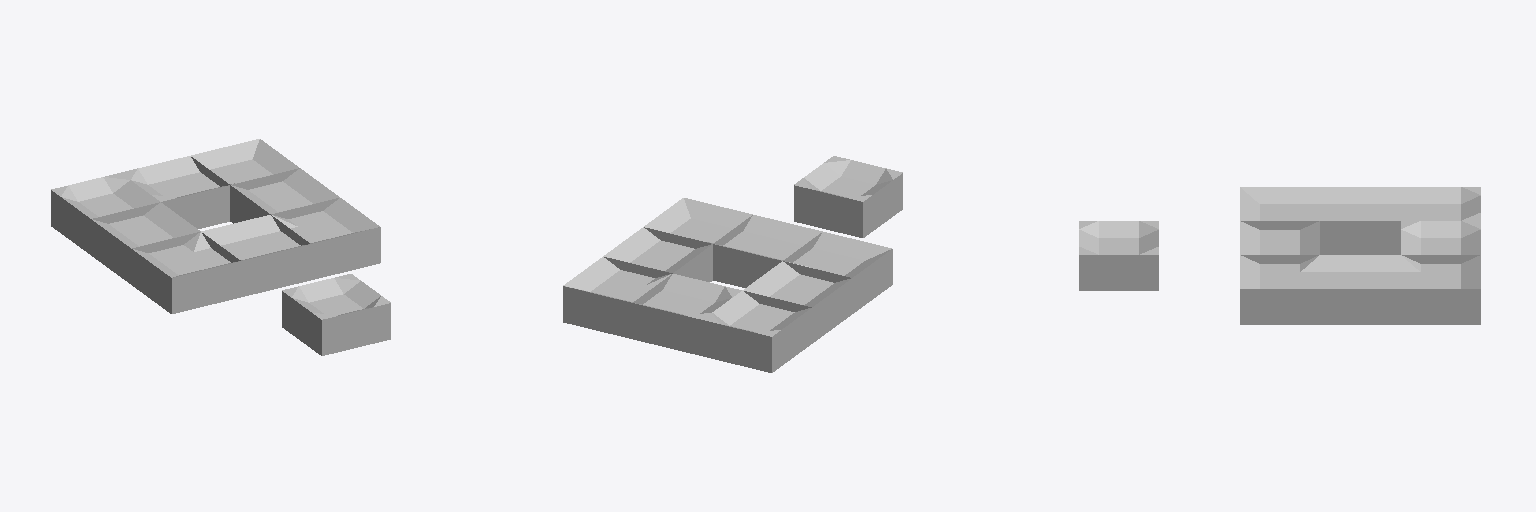
File: 8f_path.obj
The picture shows the model from 3 angles: view 1: azimuth 30°, elevation 25°; view 2: azimuth 150°, elevation 25°; view 3: azimuth 270°, elevation 25°; orthographic projection.
Parts seen in each view (by area): view 1: foil.hole.1.0_Cube.167, foil.corner.0.2_corner.832, foil.through.1.2_through.161, foil.corner.2.2_corner.833, foil.through.0.3_through.160, foil.ending.1.4_ending.332, foil.ending.0.4_ending.331, foil.through.2.3_through.162, foil.corner.2.4_corner.834; view 2: foil.hole.1.0_Cube.167, foil.ending.0.4_ending.331, foil.corner.2.4_corner.834, foil.ending.1.4_ending.332, foil.through.1.2_through.161, foil.through.0.3_through.160, foil.corner.0.2_corner.832, foil.through.2.3_through.162, foil.corner.2.2_corner.833; view 3: foil.through.2.3_through.162, foil.hole.1.0_Cube.167, foil.corner.2.4_corner.834, foil.through.0.3_through.160, foil.corner.2.2_corner.833, foil.through.1.2_through.161, foil.corner.0.2_corner.832, foil.ending.0.4_ending.331, foil.ending.1.4_ending.332.
Boxes of the visible parts, x1=… form: foil.hole.1.0_Cube.167: x1=282, y1=274, x2=390, y2=355; foil.corner.0.2_corner.832: x1=131, y1=232, x2=240, y2=313; foil.through.1.2_through.161: x1=201, y1=215, x2=310, y2=296; foil.corner.2.2_corner.833: x1=271, y1=198, x2=380, y2=279; foil.through.0.3_through.160: x1=91, y1=202, x2=200, y2=283; foil.ending.1.4_ending.332: x1=121, y1=156, x2=229, y2=228; foil.ending.0.4_ending.331: x1=51, y1=173, x2=159, y2=254; foil.through.2.3_through.162: x1=230, y1=168, x2=339, y2=223; foil.corner.2.4_corner.834: x1=191, y1=139, x2=298, y2=186; foil.hole.1.0_Cube.167: x1=794, y1=156, x2=902, y2=237; foil.ending.0.4_ending.331: x1=702, y1=290, x2=811, y2=372; foil.corner.2.4_corner.834: x1=563, y1=257, x2=671, y2=338; foil.ending.1.4_ending.332: x1=633, y1=274, x2=741, y2=355; foil.through.1.2_through.161: x1=713, y1=215, x2=822, y2=287; foil.through.0.3_through.160: x1=743, y1=261, x2=851, y2=343; foil.corner.0.2_corner.832: x1=785, y1=232, x2=892, y2=313; foil.through.2.3_through.162: x1=603, y1=227, x2=712, y2=281; foil.corner.2.2_corner.833: x1=644, y1=198, x2=752, y2=247; foil.through.2.3_through.162: x1=1320, y1=255, x2=1400, y2=324; foil.hole.1.0_Cube.167: x1=1079, y1=221, x2=1158, y2=290; foil.corner.2.4_corner.834: x1=1401, y1=255, x2=1480, y2=324; foil.through.0.3_through.160: x1=1320, y1=187, x2=1400, y2=254; foil.corner.2.2_corner.833: x1=1240, y1=255, x2=1319, y2=324; foil.through.1.2_through.161: x1=1240, y1=221, x2=1319, y2=263; foil.corner.0.2_corner.832: x1=1240, y1=187, x2=1319, y2=229; foil.ending.0.4_ending.331: x1=1401, y1=187, x2=1480, y2=220; foil.ending.1.4_ending.332: x1=1401, y1=221, x2=1480, y2=254.
Bounding box in the file's own units: 6 × 1 × 10.